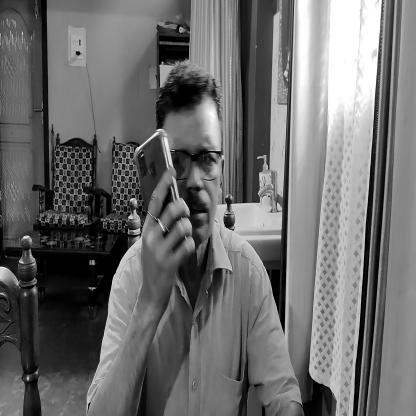Normal: (171, 72, 224, 246)
